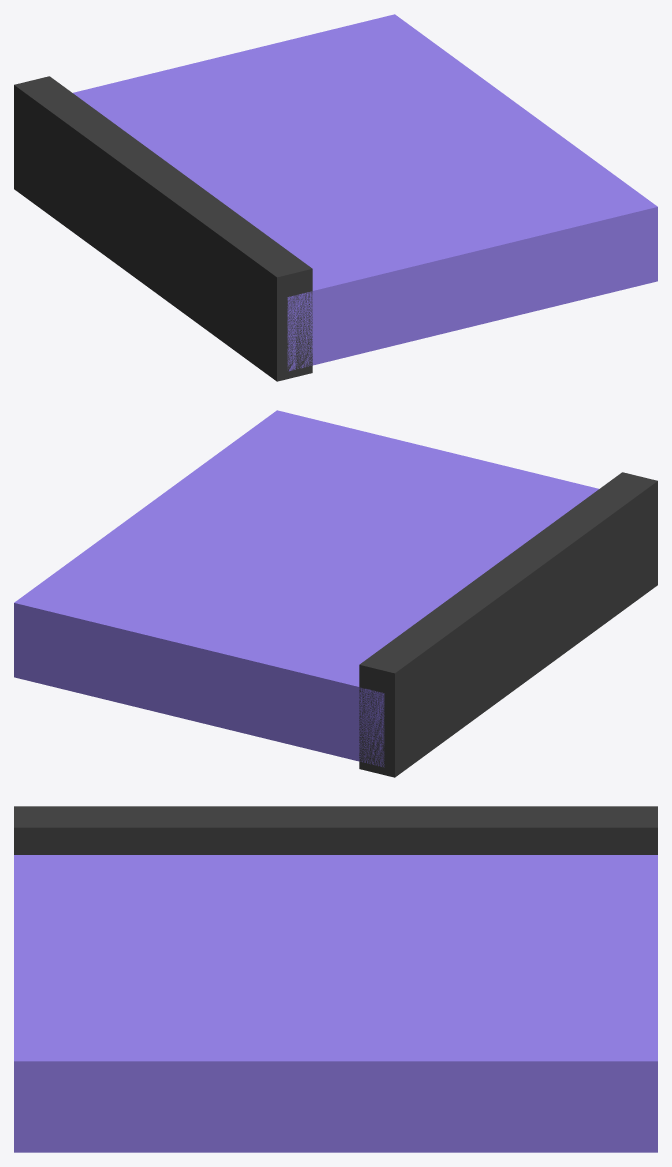
The picture shows the model from 3 angles, top to bottom: view 1: azimuth 30°, elevation 25°; view 2: azimuth 150°, elevation 25°; view 3: azimuth 270°, elevation 25°; orthographic projection. The views are drawn at different scales.
Parts seen in each view (by area): view 1: Folder, Spine; view 2: Folder, Spine; view 3: Folder, Spine.
Boxes of the visible parts, <box> form: Folder: <box>73,14,657,371</box>; Spine: <box>14,76,312,381</box>; Folder: <box>14,410,598,767</box>; Spine: <box>359,472,657,777</box>; Folder: <box>14,855,657,1152</box>; Spine: <box>14,806,657,854</box>.
Size of the model in its own units: 0.2675 by 0.07 by 0.32.
1 material, 1 textured.
